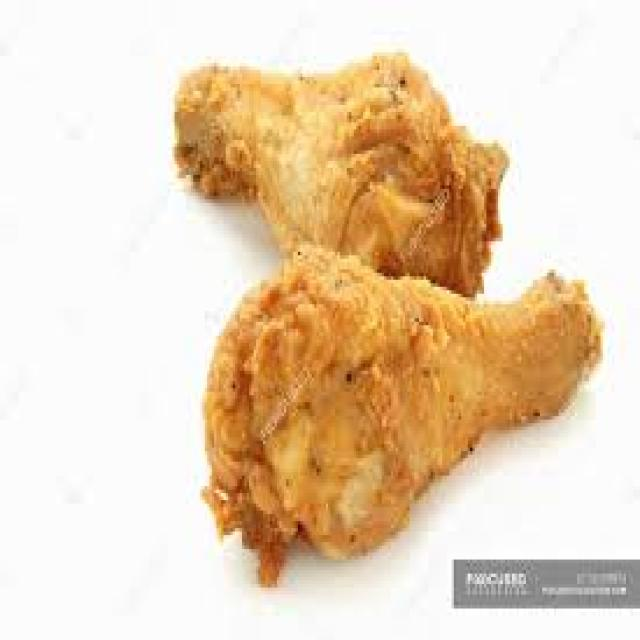Frango: (165, 42, 603, 556)
